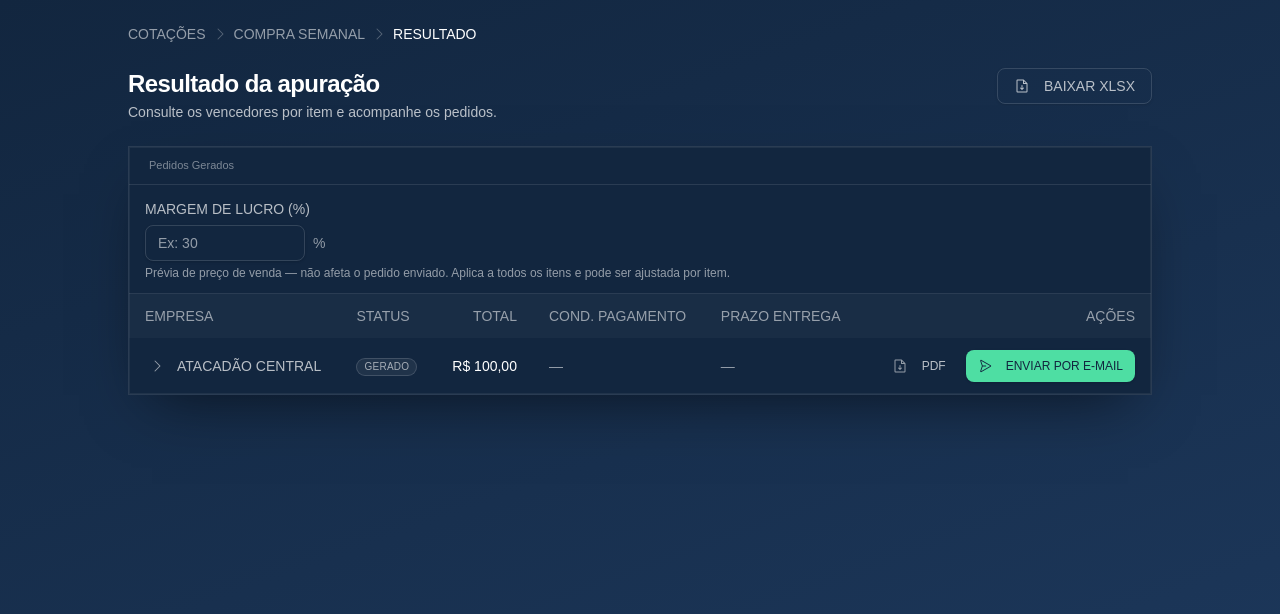
Scenario: item com decididoPorDesempate true renderiza o badge Empate na linha expandida
Expected: the text "Atacadão Central" is shown, 145,354 -> 324,378
Expected: the text "Empate" is not shown
Click the button named "Expandir itens de Atacadão Central": (157, 366) 145,354 -> 169,378
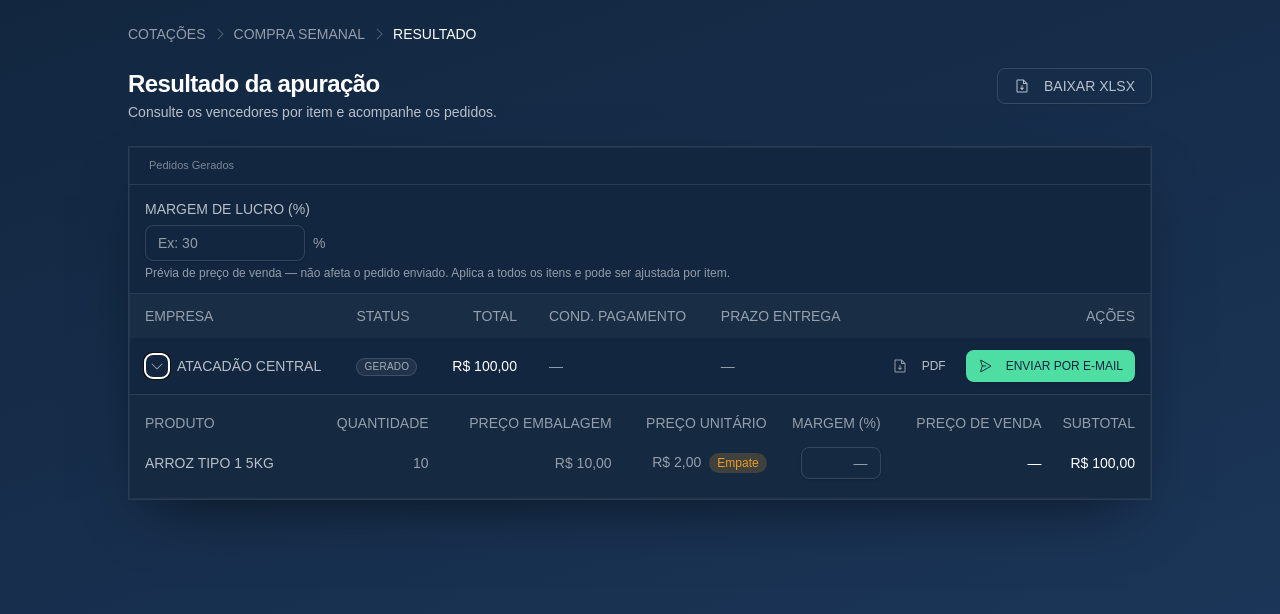
Now the text "Empate" is shown, box 709,453 -> 767,473
